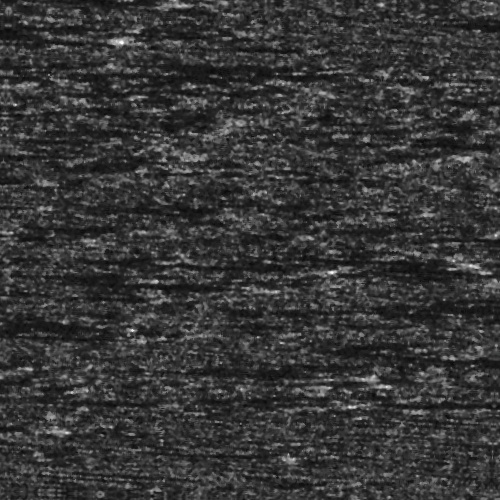shadow: (310, 494, 500, 500)
